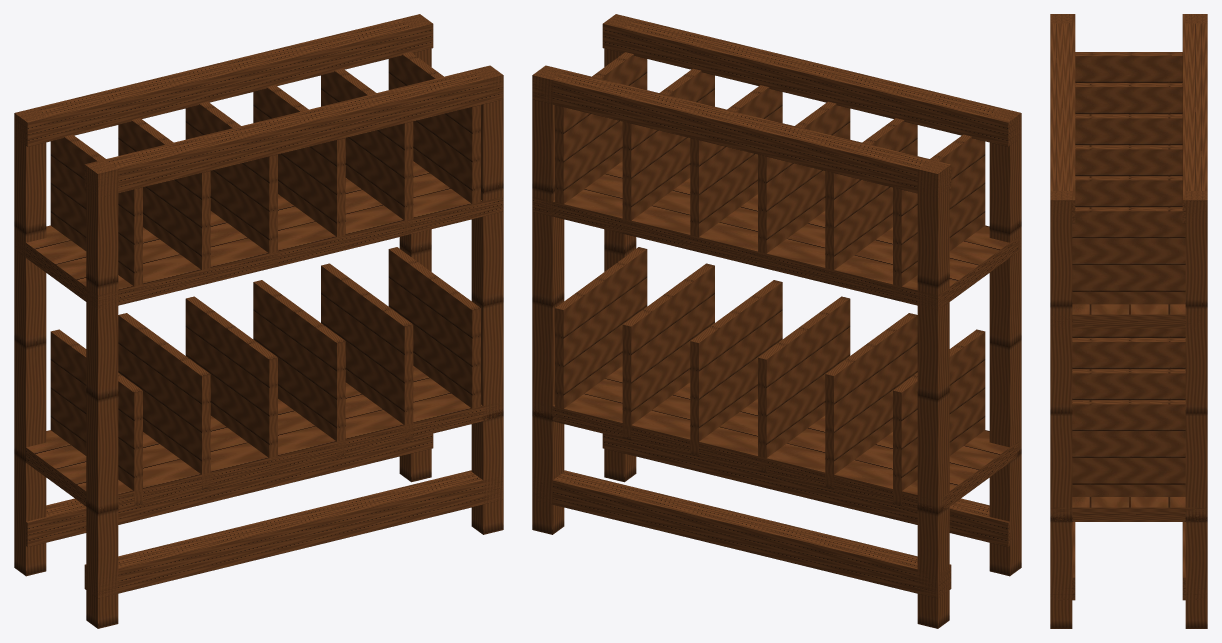
Rendered from fortified-compound-expansion-weapon-check-rack-72ac7cbf__27131.glb.
The picture shows the model from 3 angles, left to right: view 1: azimuth 30°, elevation 25°; view 2: azimuth 150°, elevation 25°; view 3: azimuth 270°, elevation 25°; orthographic projection. The views are drawn at different scales.
Visible parts, largest first — view 1: weapon-check-rack; view 2: weapon-check-rack; view 3: weapon-check-rack.
Boxes of the visible parts, box(x1,y1,x2,y2) form: weapon-check-rack: box(14, 14, 503, 628); weapon-check-rack: box(532, 14, 1021, 628); weapon-check-rack: box(1050, 14, 1207, 628).
Size of the model in its own units: 1.4 by 1.5 by 0.4999.
Materials: 1 (1 with a texture image).
